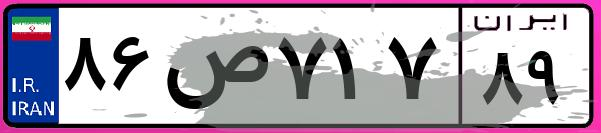1: (330, 28, 385, 110)
6: (110, 28, 158, 98)
7: (270, 28, 330, 110), (385, 28, 445, 110)
8: (57, 26, 110, 100), (475, 38, 525, 113)
9: (525, 38, 570, 115)
ص: (158, 20, 270, 120)
